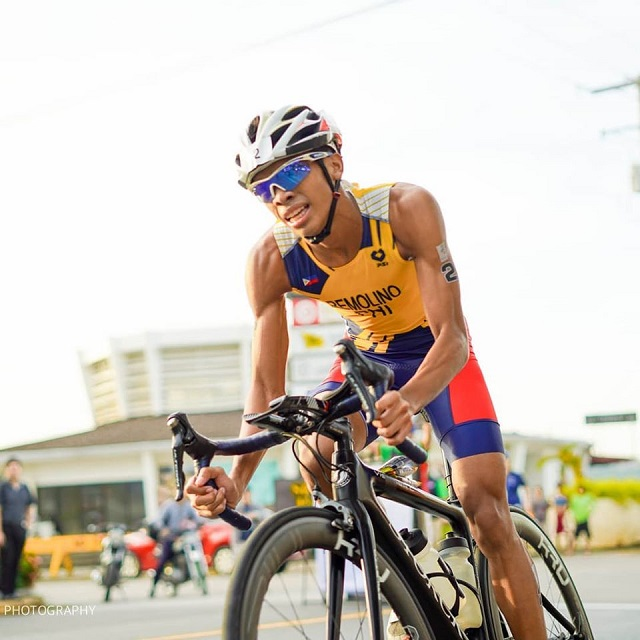bike: (168, 341, 596, 640)
person: (193, 104, 587, 640), (3, 459, 29, 598)
